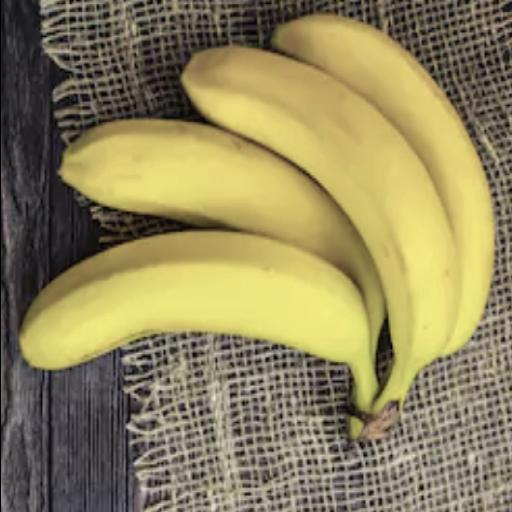banana: (181, 45, 460, 439), (59, 119, 383, 357), (272, 13, 493, 354), (19, 229, 374, 410)
